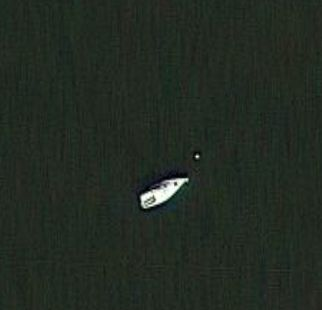boat: (136, 172, 192, 212)
